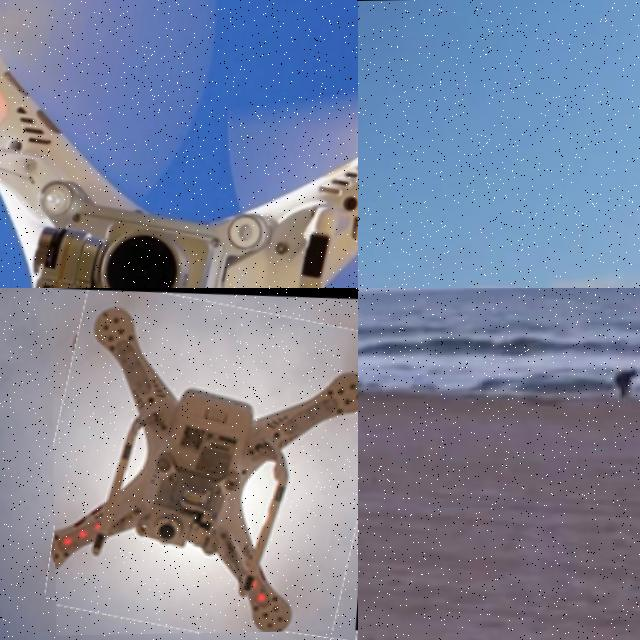0: (50, 288, 358, 635)
drone: (0, 0, 358, 288)
